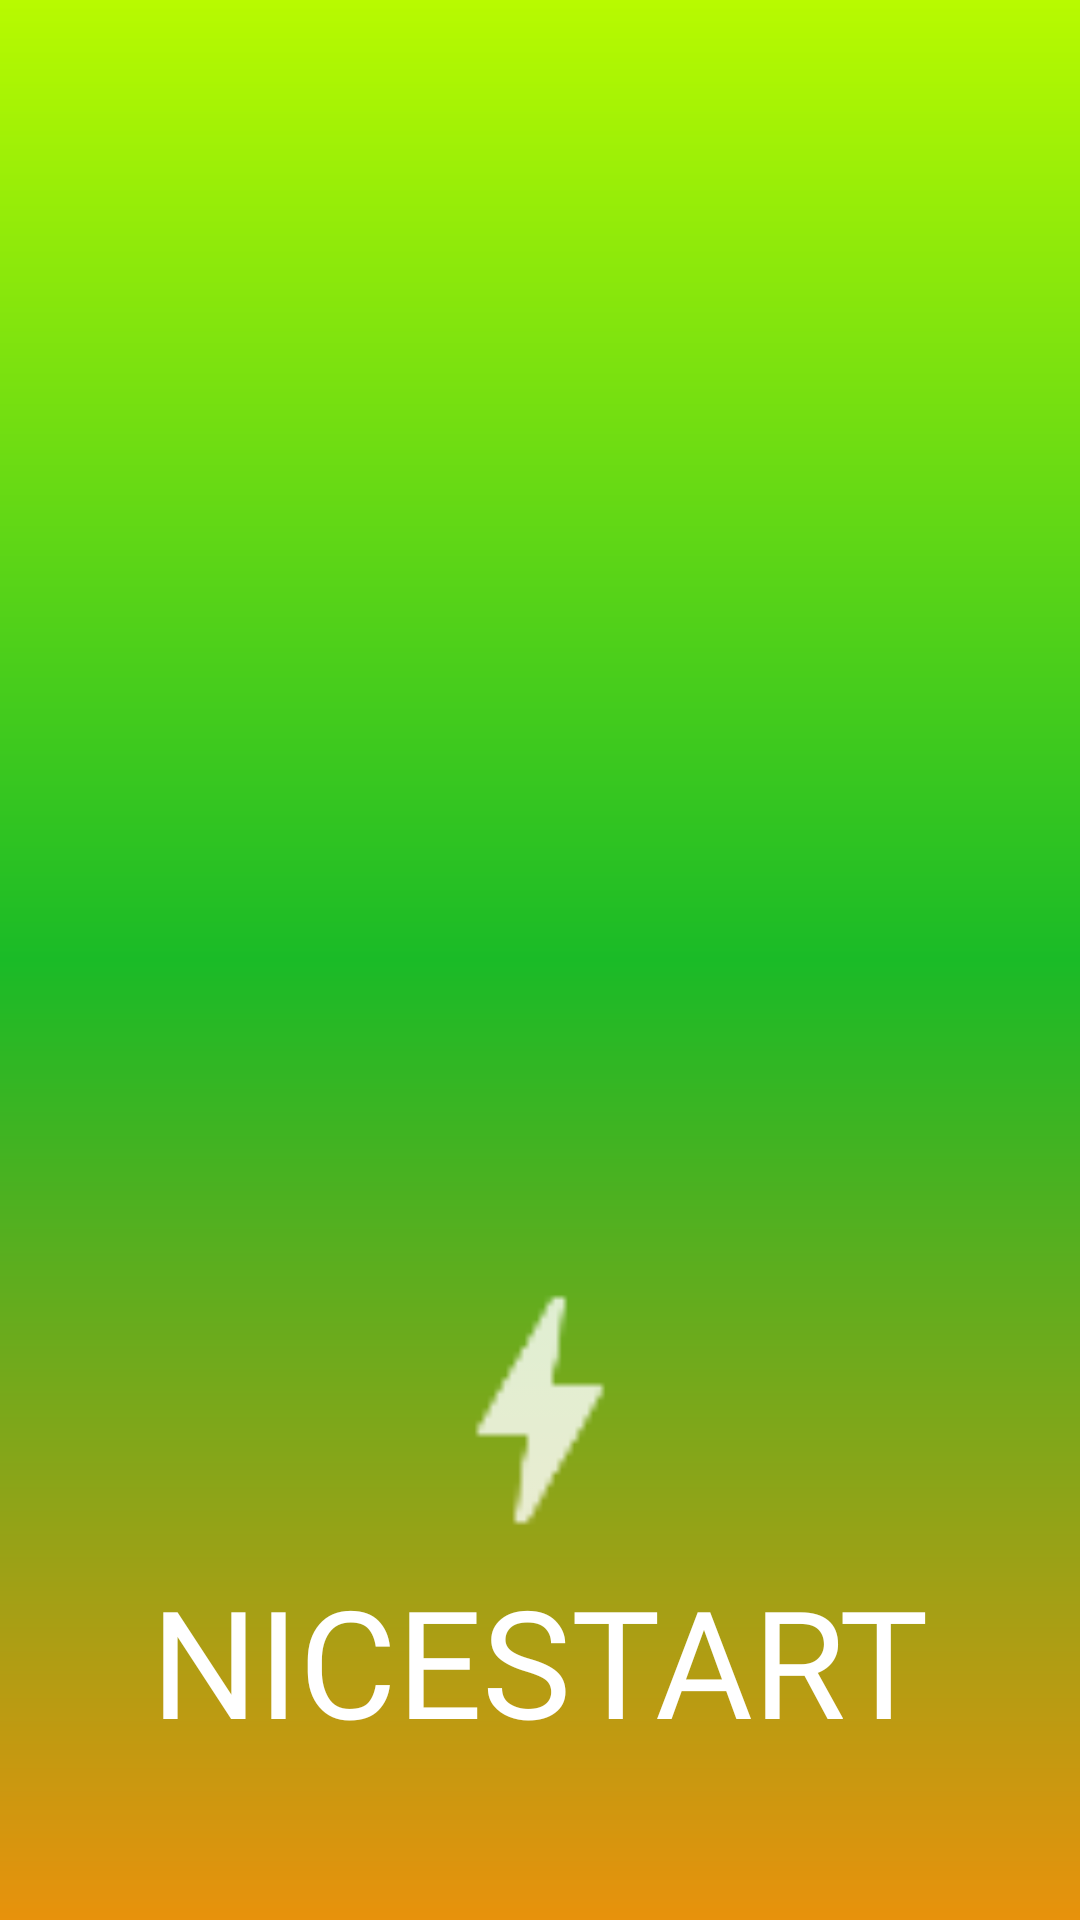

Icon click points for this 1080 x 1920 phone screenshot, format (x,y):
thunder: (540,1410)
